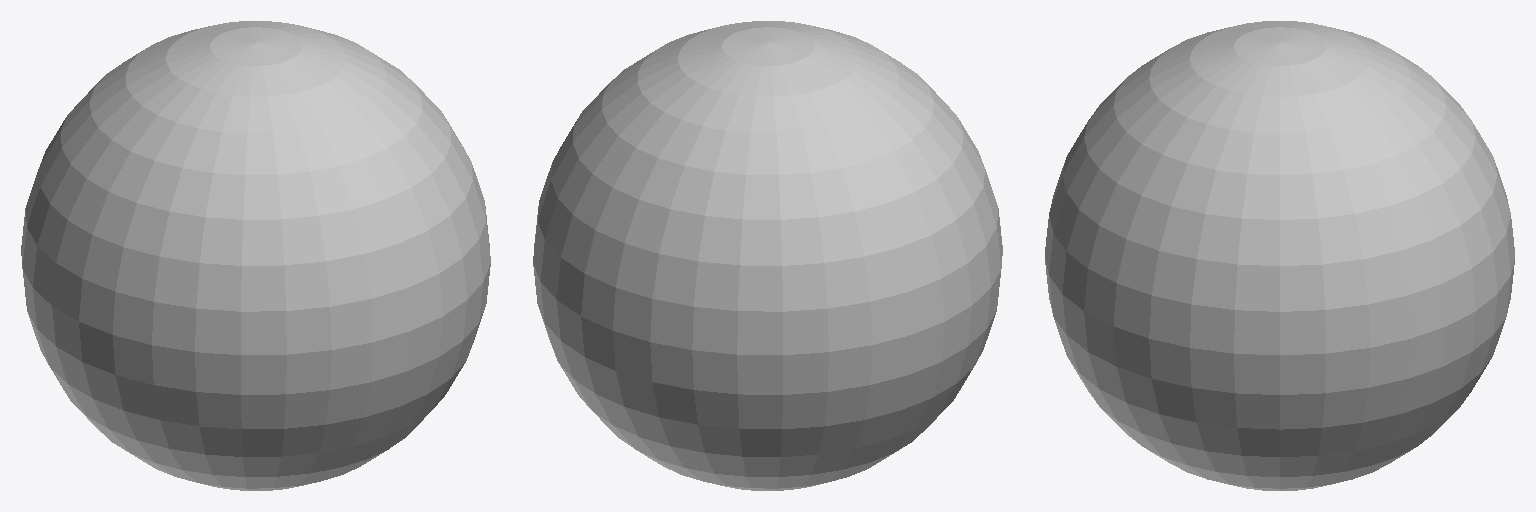
The model's file is depthParticles.obj.
The picture shows the model from 3 angles: view 1: azimuth 30°, elevation 25°; view 2: azimuth 150°, elevation 25°; view 3: azimuth 270°, elevation 25°; orthographic projection.
Parts seen in each view (by area): view 1: 球; view 2: 球; view 3: 球.
Boxes of the visible parts, x1=… form: 球: x1=21, y1=21, x2=490, y2=490; 球: x1=533, y1=21, x2=1002, y2=490; 球: x1=1045, y1=21, x2=1514, y2=490.
Bounding box in the file's own units: 1 × 1 × 1.